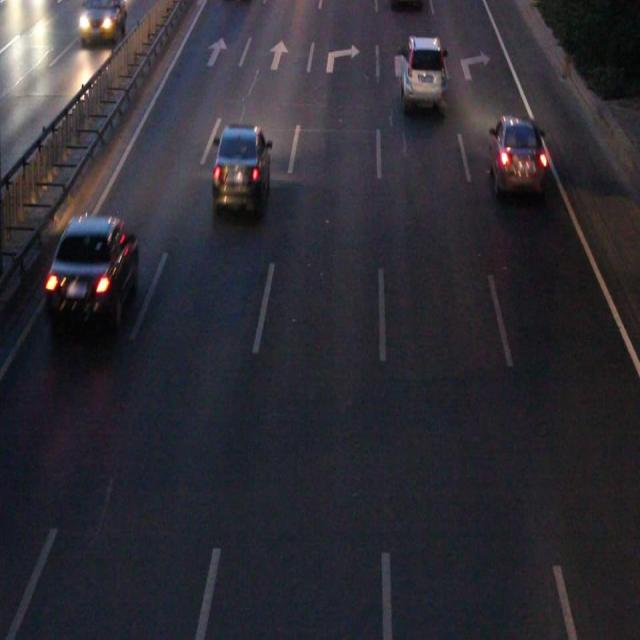car: (50, 217, 137, 321), (213, 125, 269, 208), (486, 119, 541, 190), (398, 37, 444, 110)
